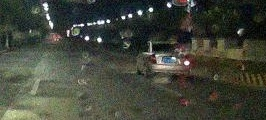L_light: (150, 55, 157, 64)
R_light: (183, 57, 189, 66)
T_light: (164, 44, 171, 45)
night-right: (149, 42, 190, 78)
